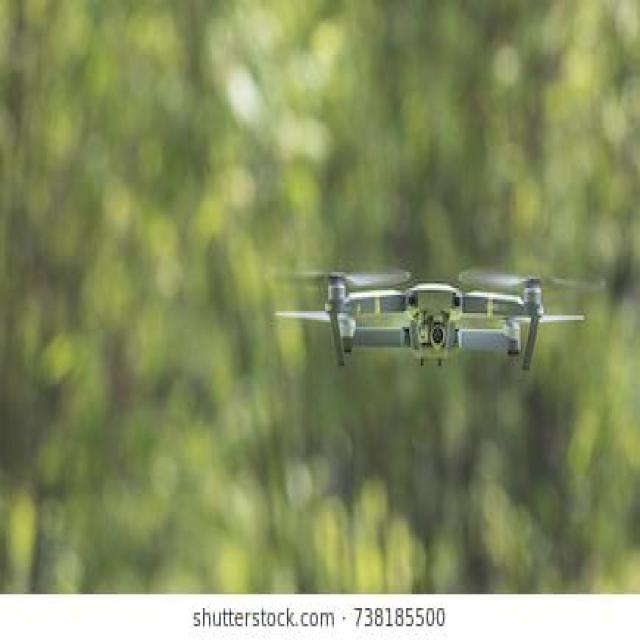drone: (258, 218, 620, 445)
